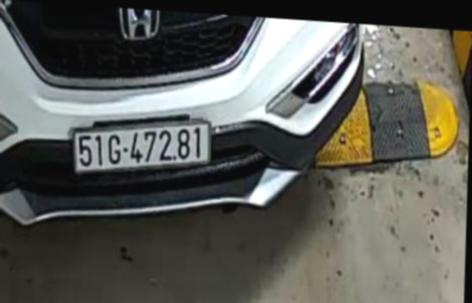License_Plate: (69, 114, 215, 178)
